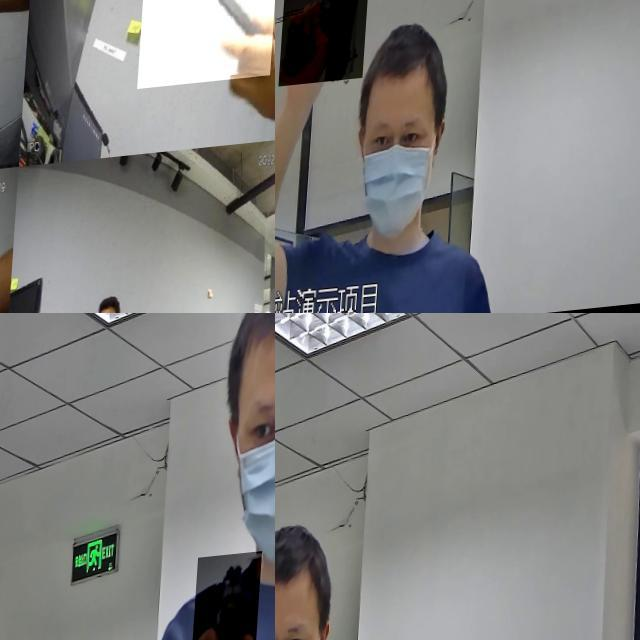-: (140, 0, 275, 98), (0, 0, 30, 104)
gun-knife-thesis - v11 Yolov5 augmented: (283, 0, 378, 101), (275, 401, 310, 598), (193, 558, 267, 640)
